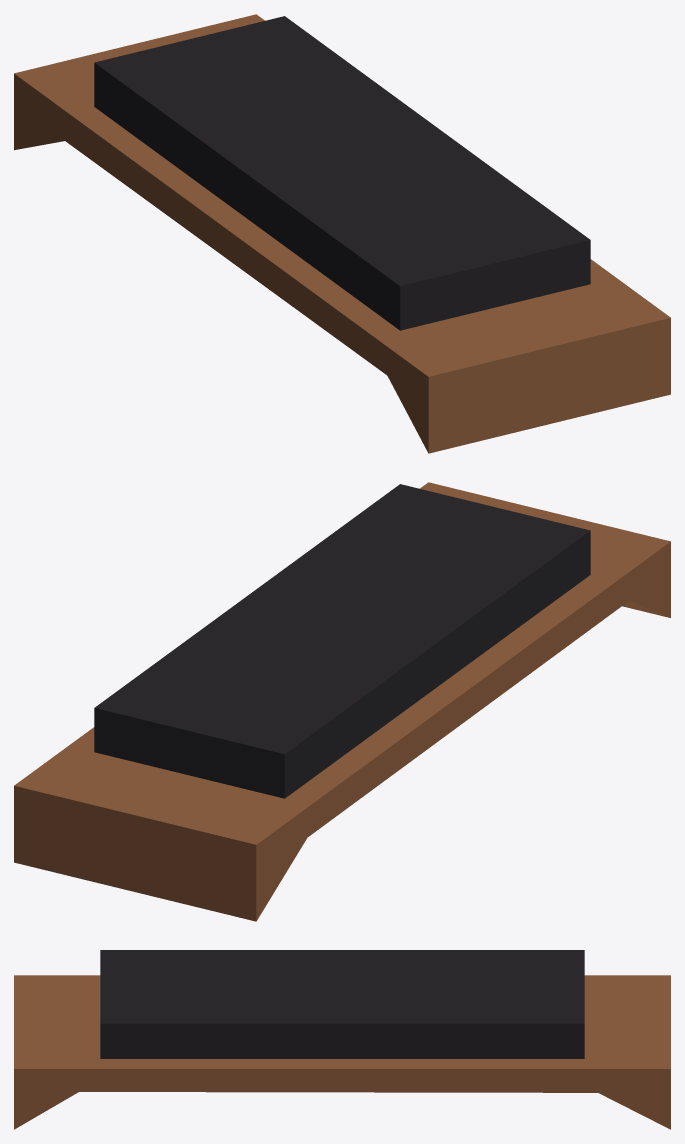
File: Whetstone.fbx
3 views of the same model, one above another, from view 1: azimuth 30°, elevation 25°; view 2: azimuth 150°, elevation 25°; view 3: azimuth 270°, elevation 25° (orthographic). The views are drawn at different scales.
Visible parts, largest first — view 1: Cube.001, Cube; view 2: Cube.001, Cube; view 3: Cube.001, Cube.
Boxes of the visible parts, box(x1,y1,x2,y2) form: Cube.001: box(94, 16, 590, 330); Cube: box(14, 14, 670, 453); Cube.001: box(94, 484, 590, 798); Cube: box(14, 482, 670, 921); Cube.001: box(100, 950, 584, 1058); Cube: box(14, 975, 670, 1129).
Bounding box in the file's own units: 200 × 95.56 × 592.
